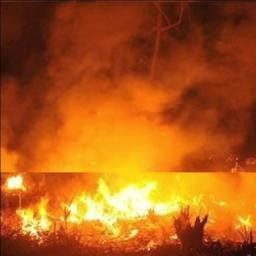Heavy smoke: (4, 4, 254, 172)
Large fire: (0, 175, 252, 249)
